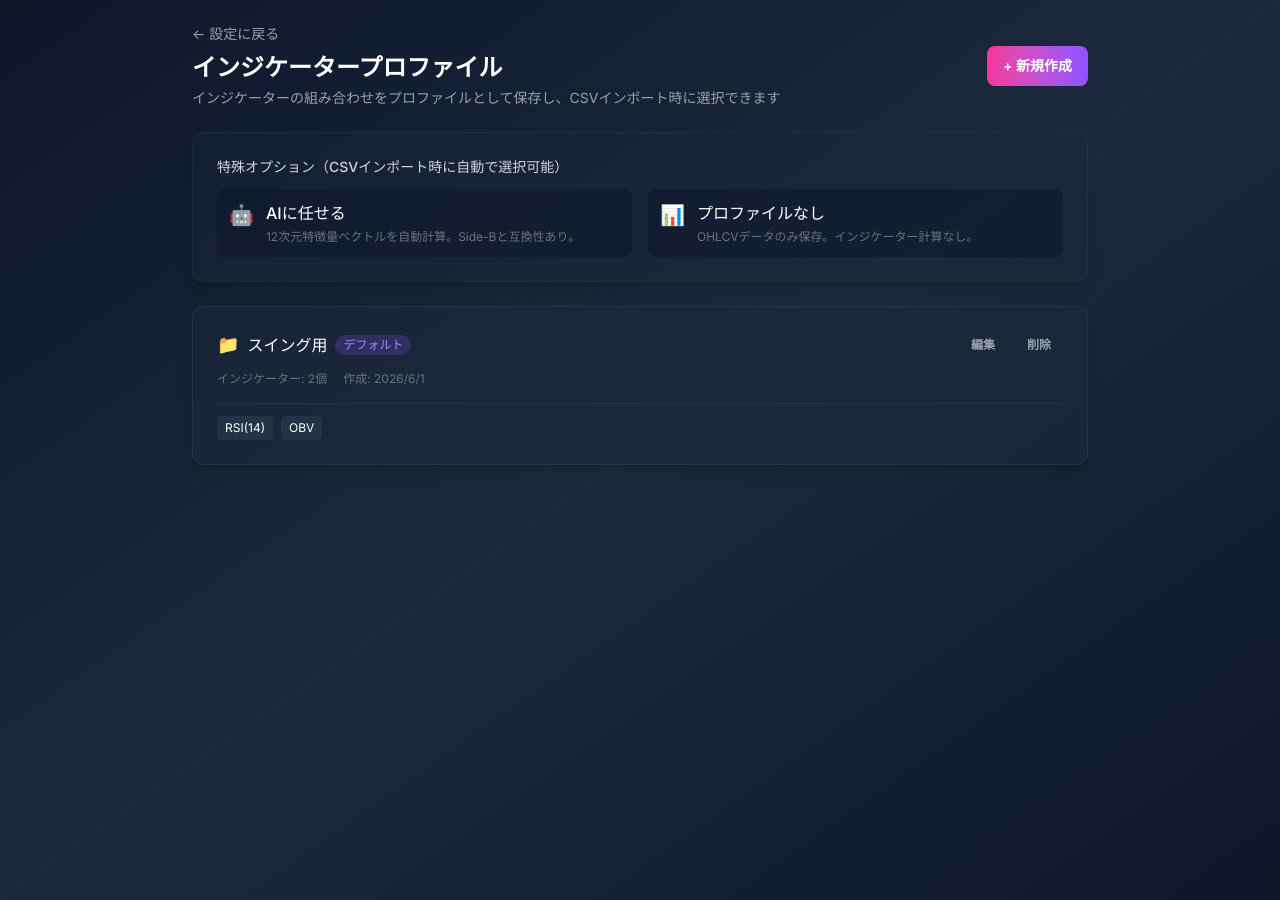
Test: ProfileEditModal パラメータ編集 (Phase α-4b) › 選択中インジケーターのパラメータ入力欄が初期値付きで表示される
Expected: the heading "スイング用" is shown, [248,333,328,357]
Click the button "編集" at (983, 345), box [959,331,1007,359]
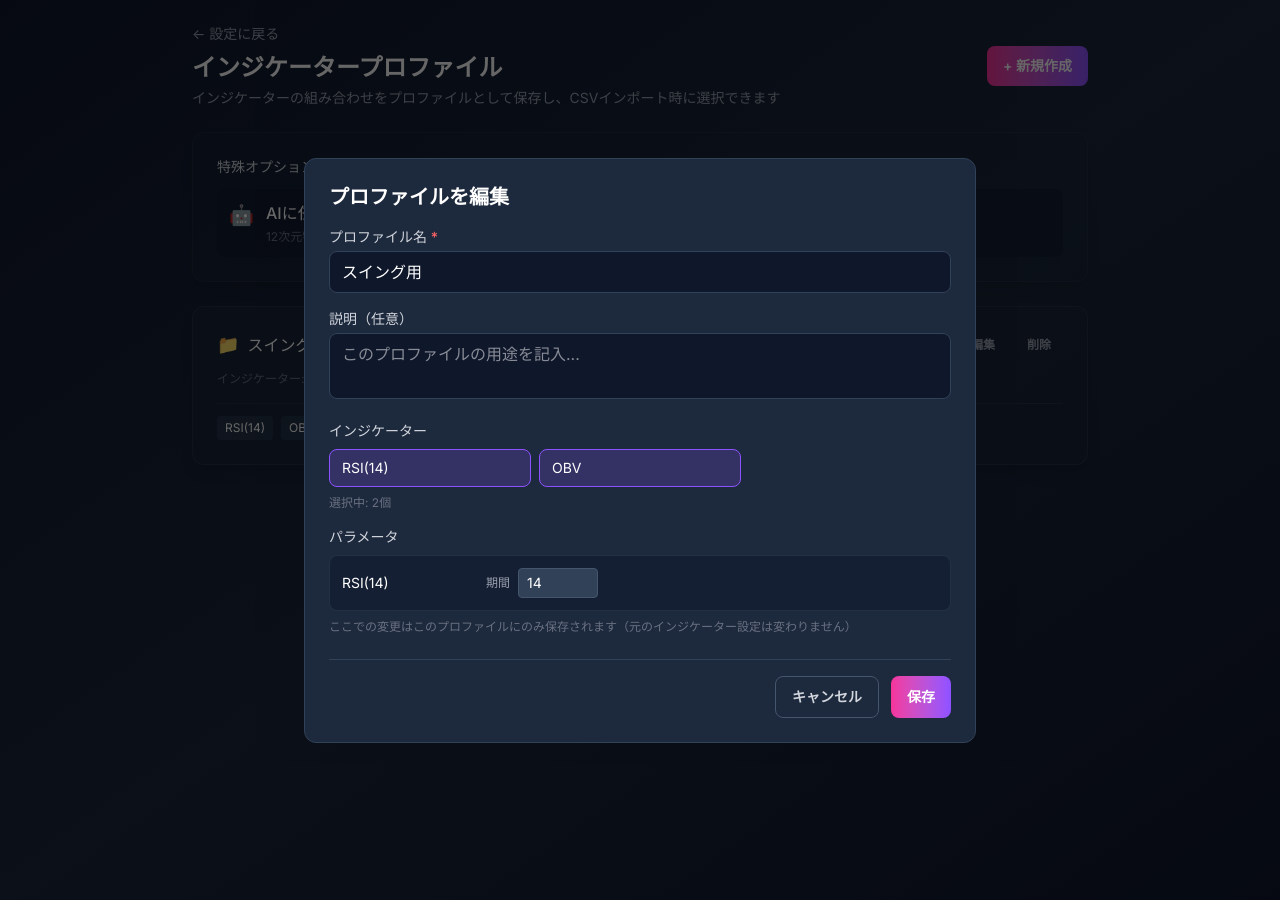
Expected: the text "パラメータ" is shown, [329,528,399,544]
Expected: the number field named "RSI(14) 期間" holds "14", [518,568,598,598]
